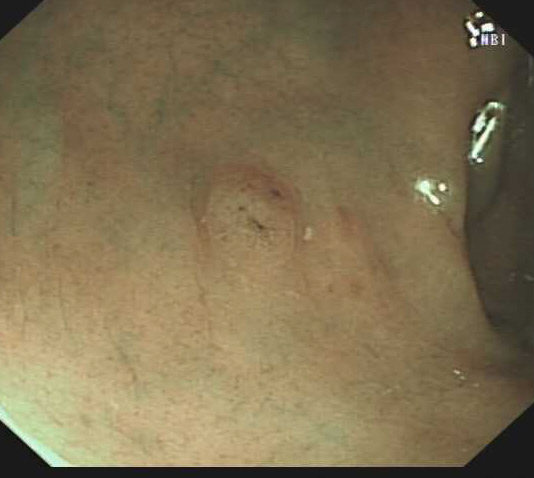adenoma: (200, 165, 300, 265)
